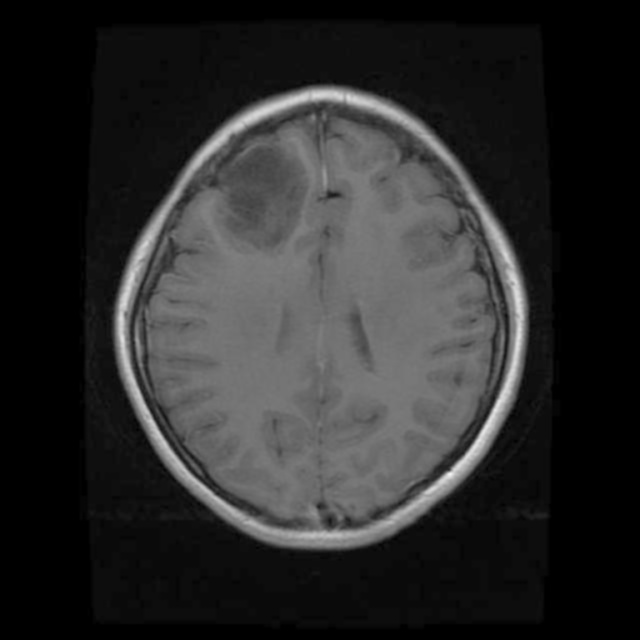pituitary tumor: (210, 152, 304, 248)
